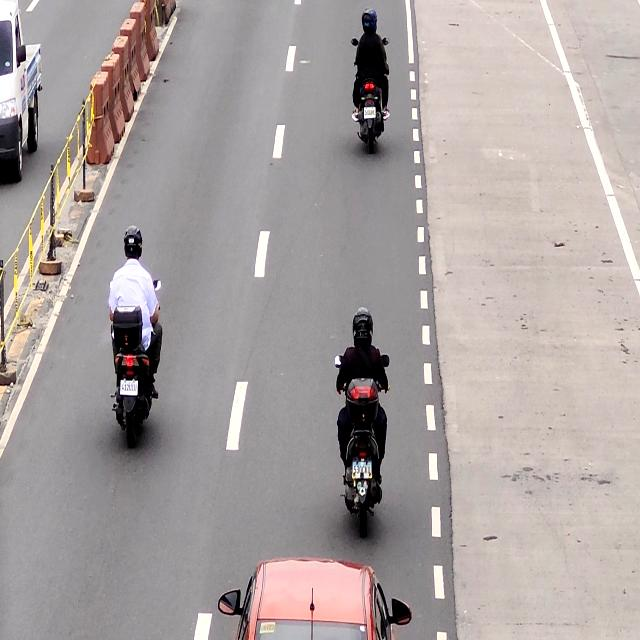Car: (229, 554, 393, 640)
License-Plate: (350, 457, 374, 481), (119, 377, 141, 398), (361, 105, 377, 120)
Motorcycle: (333, 307, 393, 541), (109, 222, 161, 453), (352, 0, 386, 154)
